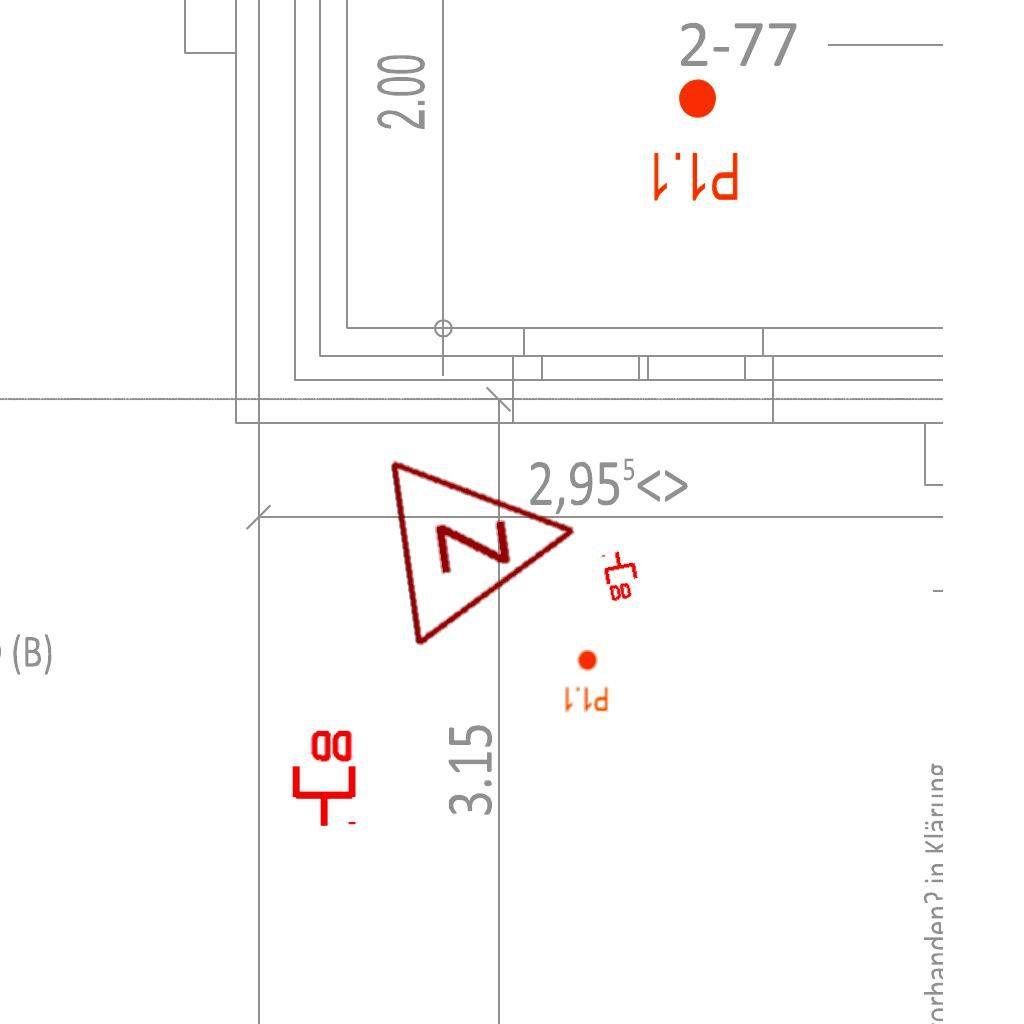Datenanschluss_zweifach: (288, 726, 357, 829), (600, 547, 644, 604)
Downlight_LED_Einbauleuchten_Flur: (648, 76, 741, 204), (563, 649, 609, 713)
Zimmersignalleuchte: (375, 429, 601, 651)
